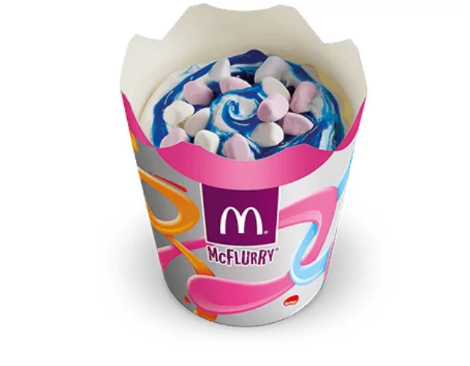mcdonalds: (209, 196, 265, 242)
